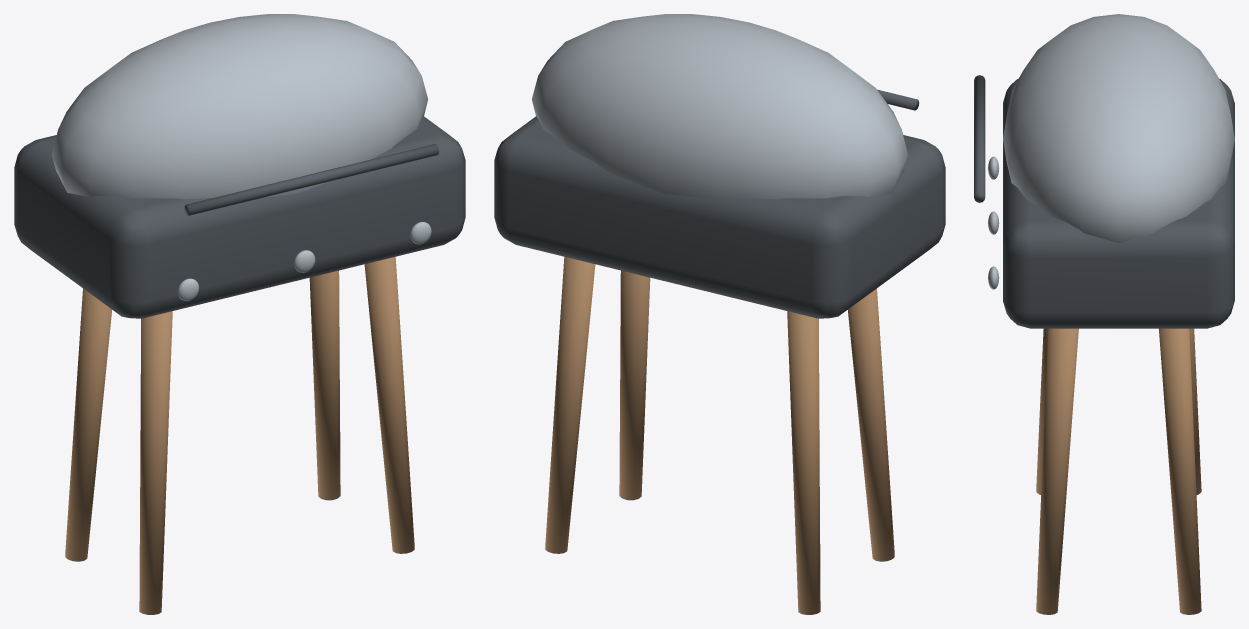
The model's file is atelier-barbecue-grill.glb.
3 renders of one model, left to right at view 1: azimuth 30°, elevation 25°; view 2: azimuth 150°, elevation 25°; view 3: azimuth 270°, elevation 25°, orthographic. The views are drawn at different scales.
Parts seen in each view (by area): view 1: steel.060, metal.176, legs.203; view 2: steel.060, metal.176, legs.203; view 3: steel.060, metal.176, legs.203.
Part boxes in pixels (left/top/right/bottom): steel.060: left=52, top=14, right=431, bottom=301; metal.176: left=14, top=116, right=465, bottom=318; legs.203: left=65, top=257, right=414, bottom=614; steel.060: left=532, top=14, right=907, bottom=200; metal.176: left=494, top=89, right=945, bottom=318; legs.203: left=545, top=257, right=894, bottom=614; steel.060: left=988, top=14, right=1234, bottom=289; metal.176: left=974, top=75, right=1234, bottom=328; legs.203: left=1036, top=328, right=1201, bottom=614.
Size of the model in its own units: 0.86 by 1.2 by 0.562.
